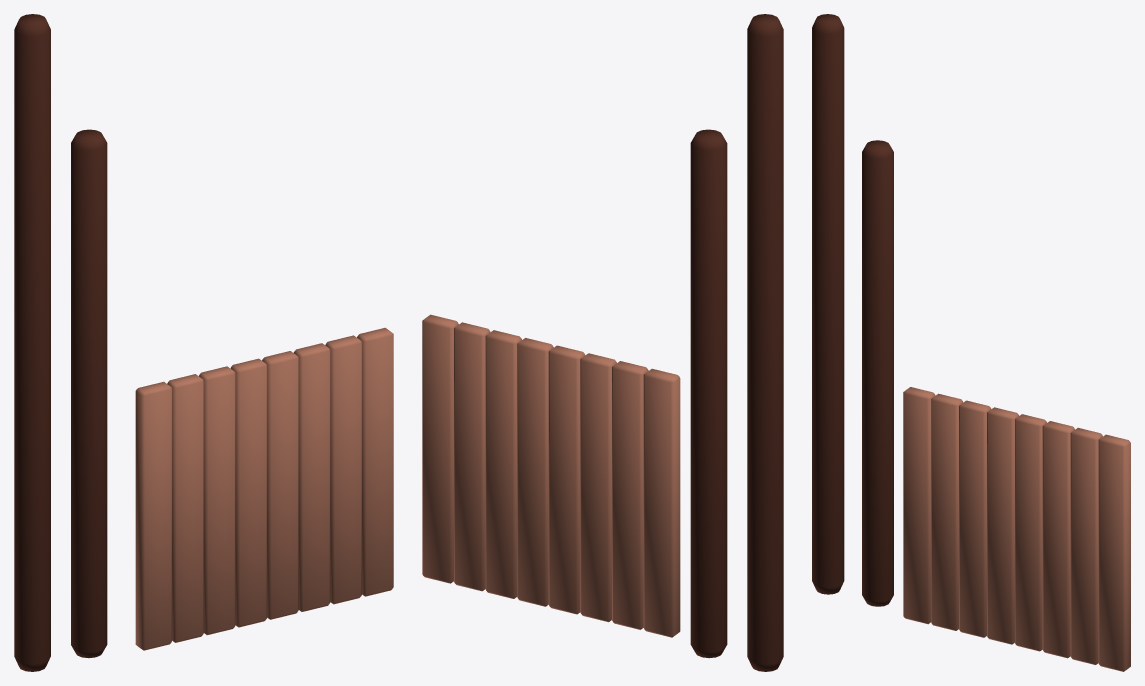
The model's file is Postes.fbx.
3 views of the same model, side by side, from view 1: azimuth 30°, elevation 25°; view 2: azimuth 150°, elevation 25°; view 3: azimuth 330°, elevation 25° (orthographic). The views are drawn at different scales.
Visible parts, largest first — view 1: Tablon, Poste_5m, Poste_4m; view 2: Tablon, Poste_5m, Poste_4m; view 3: Tablon, Poste_5m, Poste_4m.
Part boxes in pixels (<box>): Tablon: <box>135,327,393,650</box>; Poste_5m: <box>14,14,50,671</box>; Poste_4m: <box>71,129,107,658</box>; Tablon: <box>422,314,680,637</box>; Poste_5m: <box>747,14,783,671</box>; Poste_4m: <box>690,129,727,658</box>; Tablon: <box>903,387,1130,671</box>; Poste_5m: <box>812,14,844,594</box>; Poste_4m: <box>862,140,893,606</box>.
Bounding box in the file's own units: 296 × 500 × 31.
